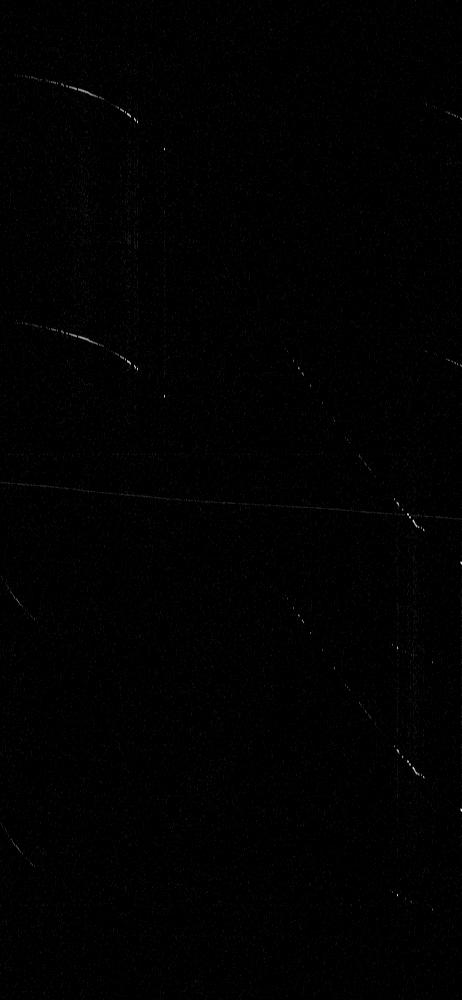signal: (0, 0, 461, 999)
